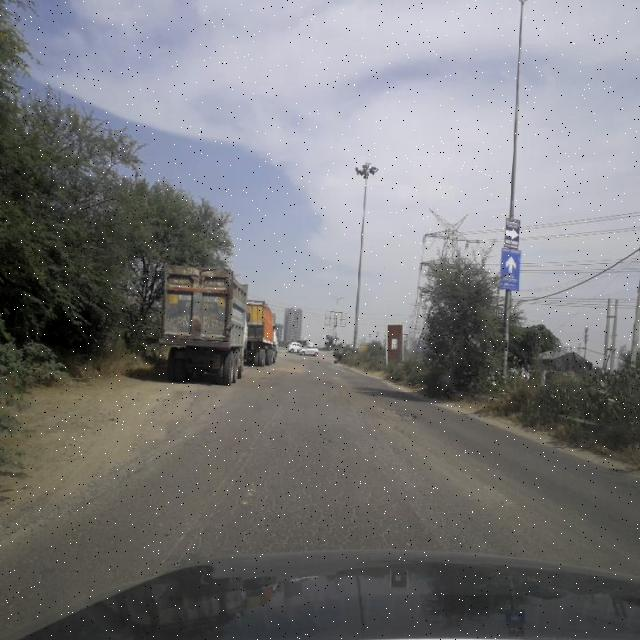D00: (172, 396, 292, 553)
D20: (196, 417, 446, 548)
D40: (368, 398, 422, 428)
